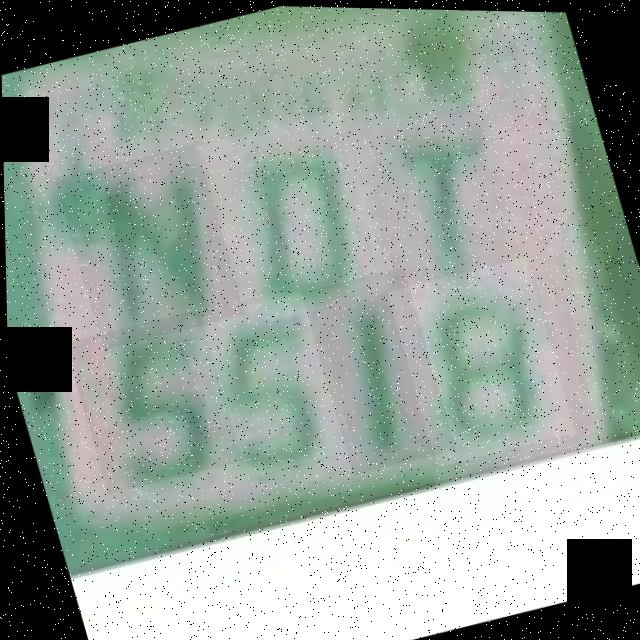1: (299, 263, 454, 475)
5: (175, 286, 353, 484), (61, 305, 241, 496)
8: (385, 253, 574, 467)
D: (199, 107, 390, 326)
N: (52, 140, 244, 351)
T: (353, 99, 524, 301)
